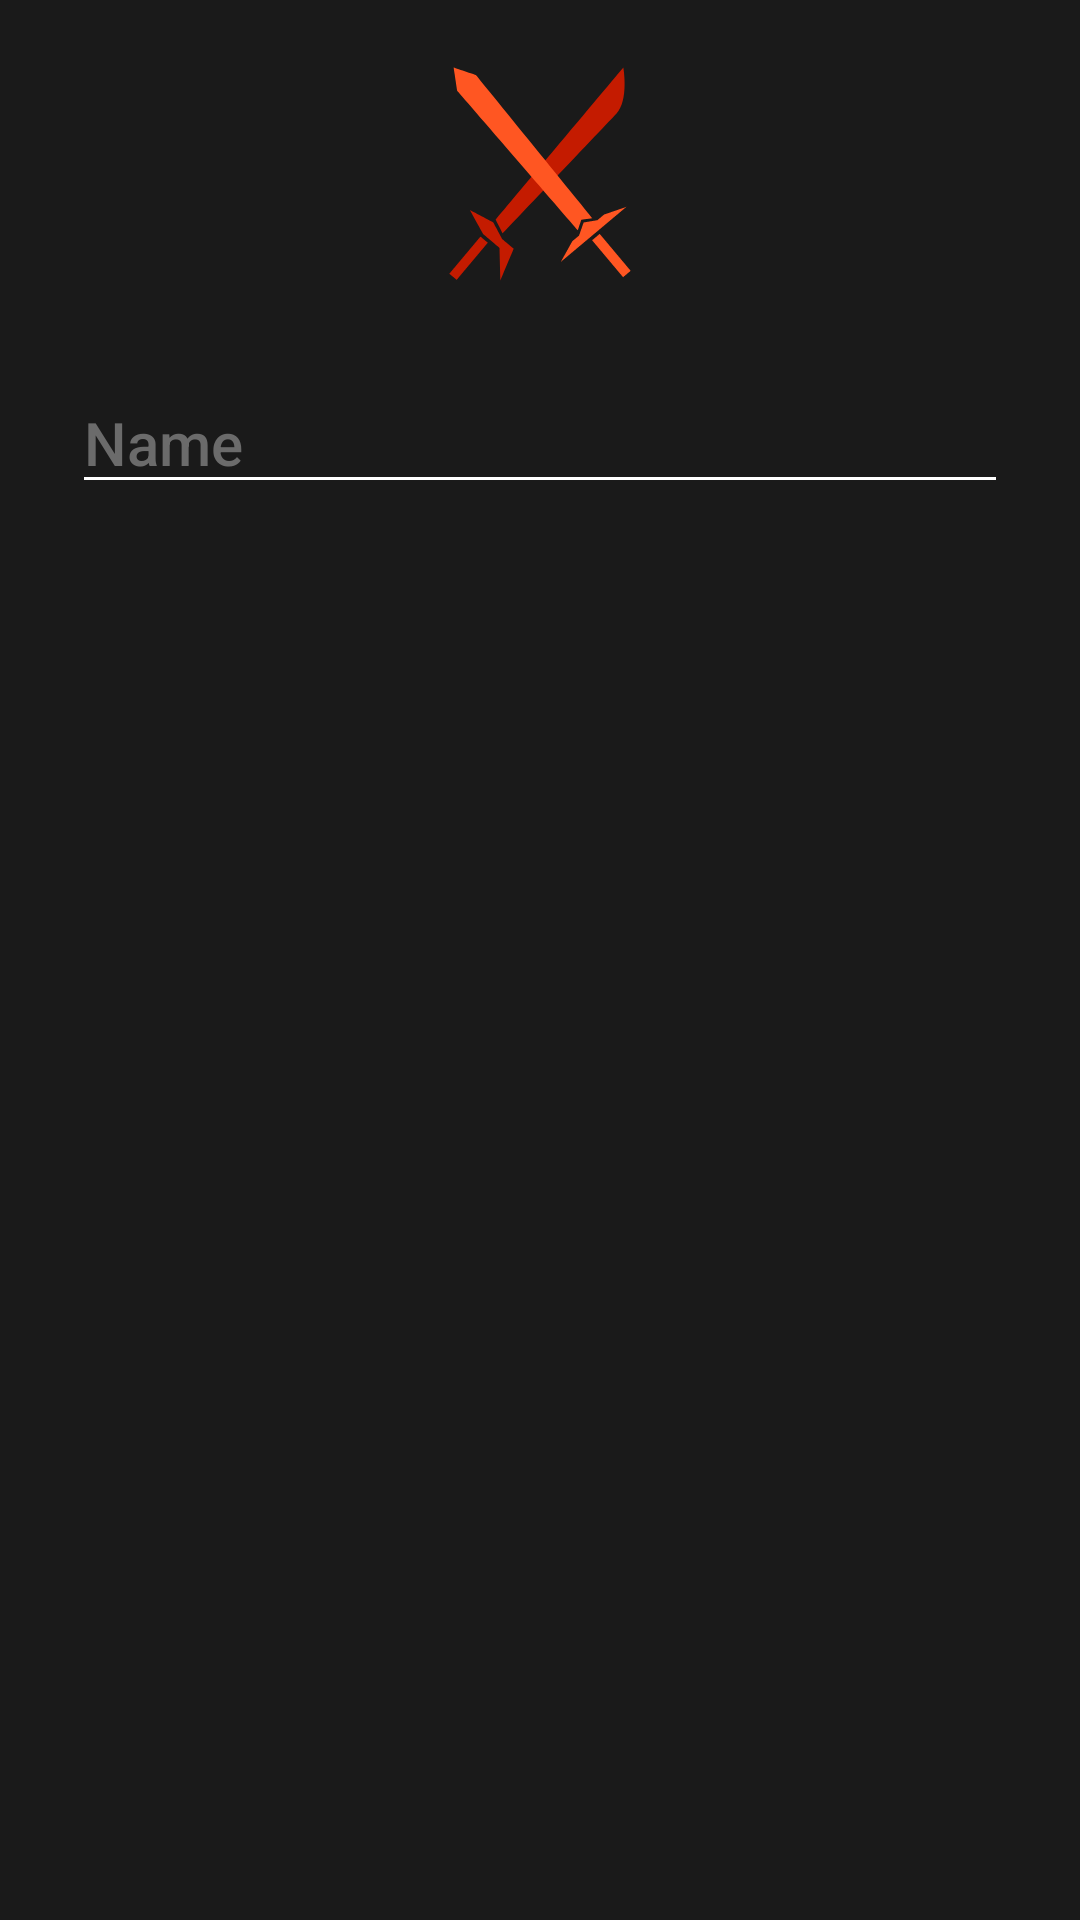

Where icons sit on this 1080px×1920px app screen, as bbox(x1, y1, x2, y2):
combat: bbox(449, 67, 631, 280)
